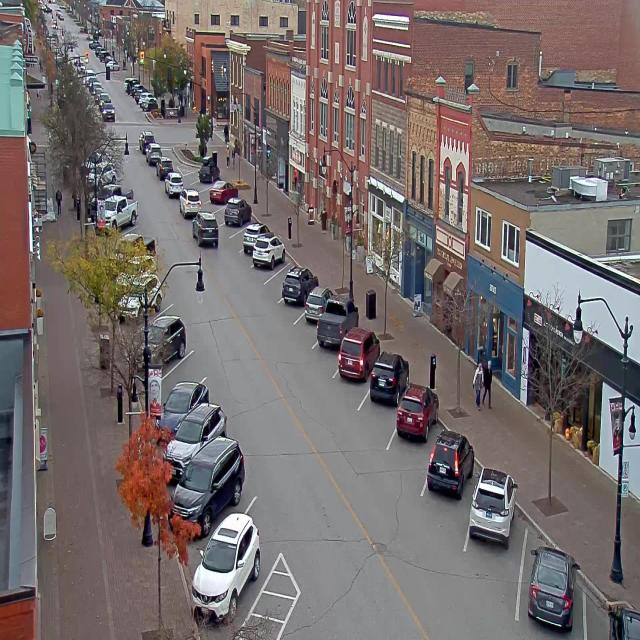available: (162, 342, 210, 390), (268, 259, 292, 293), (225, 224, 247, 254), (212, 202, 228, 225), (196, 186, 211, 205), (185, 168, 199, 184)
occupied: (193, 500, 261, 620), (169, 435, 245, 538), (527, 544, 580, 631), (468, 466, 517, 547), (167, 394, 230, 449), (426, 428, 475, 498), (156, 379, 209, 441), (592, 588, 640, 639), (368, 350, 409, 406), (142, 313, 187, 363), (316, 296, 358, 349), (392, 388, 436, 435), (335, 326, 372, 378), (282, 264, 318, 305), (298, 286, 336, 321), (252, 232, 285, 269), (224, 196, 251, 227), (208, 180, 234, 204), (242, 225, 263, 251), (198, 160, 219, 183)
